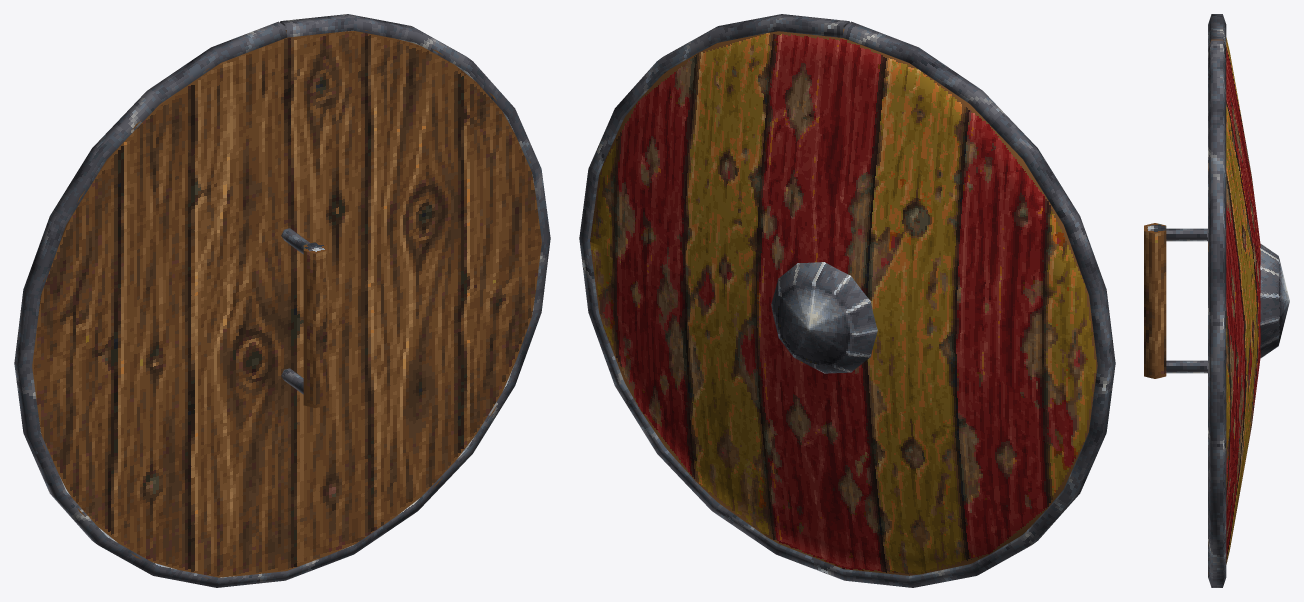
The model's file is ironbound.glb.
3 views of the same model, side by side, from view 1: azimuth 30°, elevation 25°; view 2: azimuth 150°, elevation 25°; view 3: azimuth 270°, elevation 25° (orthographic). The views are drawn at different scales.
Visible parts, largest first — view 1: ironbound; view 2: ironbound; view 3: ironbound.
Part boxes in pixels (<box>): ironbound: <box>14,14,550,587</box>; ironbound: <box>579,14,1115,587</box>; ironbound: <box>1144,14,1289,587</box>.
Size of the model in its own units: 0.5386 by 0.5385 by 0.1364.
1 material, 1 textured.
